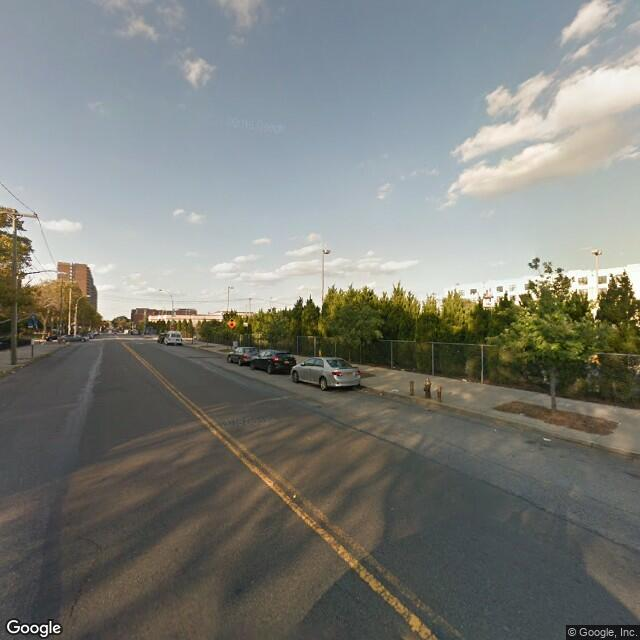litter: (541, 435, 554, 446), (359, 387, 367, 398), (461, 375, 468, 386), (290, 492, 298, 499), (493, 428, 500, 434), (378, 392, 384, 399), (392, 387, 398, 393), (11, 370, 16, 375), (21, 365, 26, 370)
